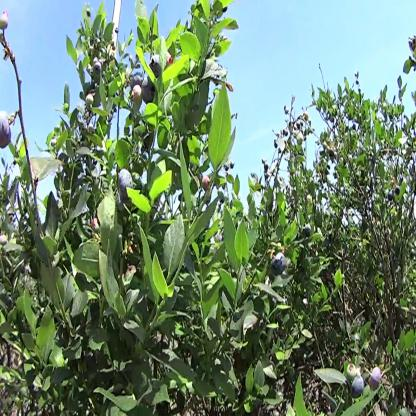intermediate: (131, 83, 144, 109), (1, 12, 10, 32), (202, 173, 212, 191)
mature: (1, 107, 12, 155), (118, 169, 133, 199), (368, 367, 384, 394), (351, 374, 364, 400), (302, 224, 311, 243)
young: (347, 363, 358, 384), (152, 53, 162, 74), (85, 92, 95, 109)
